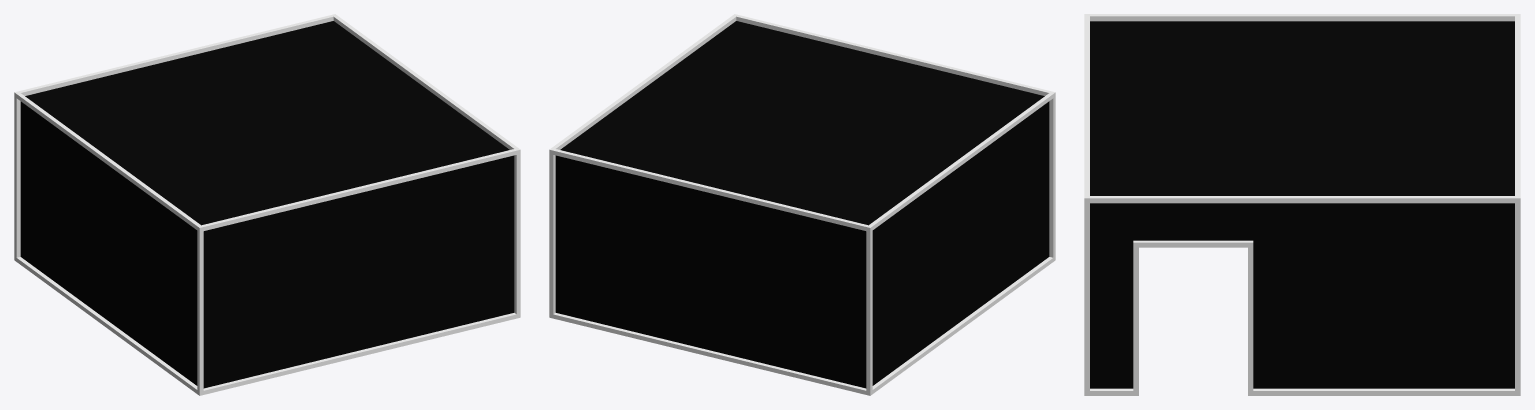
Rendered from house.dae.
3 renders of one model, left to right at view 1: azimuth 30°, elevation 25°; view 2: azimuth 150°, elevation 25°; view 3: azimuth 270°, elevation 25°, orthographic. The views are drawn at different scales.
Visible parts, largest first — view 1: Cube; view 2: Cube; view 3: Cube.
Part boxes in pixels (box(x1,y1,x2,y2)): Cube: box(14, 14, 520, 395); Cube: box(549, 14, 1055, 395); Cube: box(1084, 14, 1520, 395).
Size of the model in its own units: 4 by 4 by 2.
Materials: 1 (1 with a texture image).
